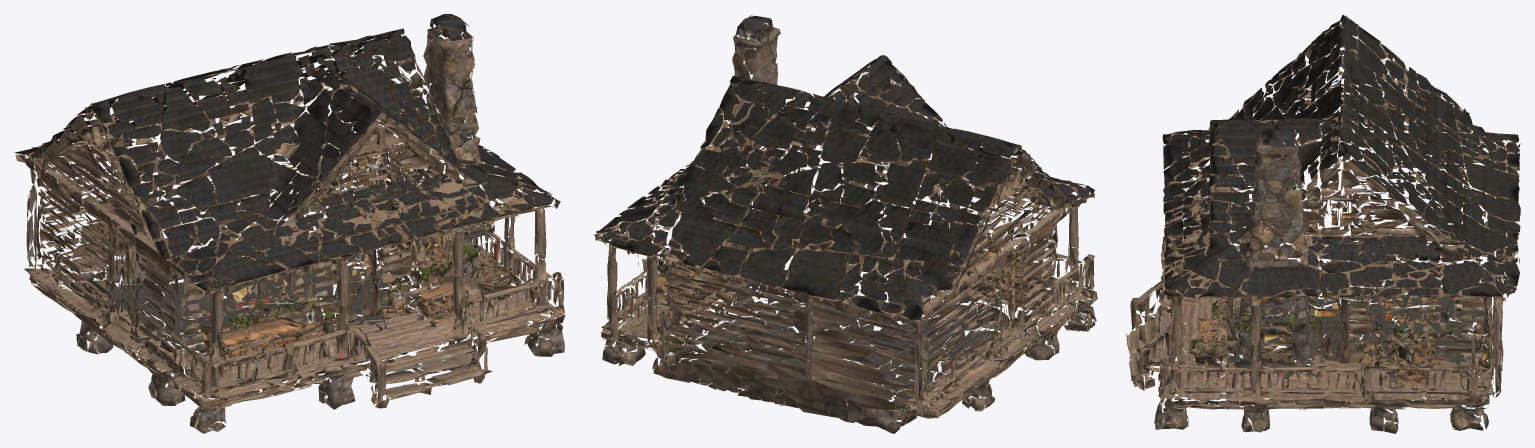
Rendered from bietthu_opt.glb.
3 views of the same model, side by side, from view 1: azimuth 30°, elevation 25°; view 2: azimuth 150°, elevation 25°; view 3: azimuth 270°, elevation 25° (orthographic). The views are drawn at different scales.
Visible parts, largest first — view 1: bietthu_opt; view 2: bietthu_opt; view 3: bietthu_opt.
Boxes of the visible parts, bbox=[...] form: bietthu_opt: bbox=[15, 14, 565, 433]; bietthu_opt: bbox=[594, 14, 1097, 433]; bietthu_opt: bbox=[1126, 15, 1520, 433].
Bounding box in the file's own units: 1.9 × 1.42 × 1.83.
Materials: 1 (1 with a texture image).
